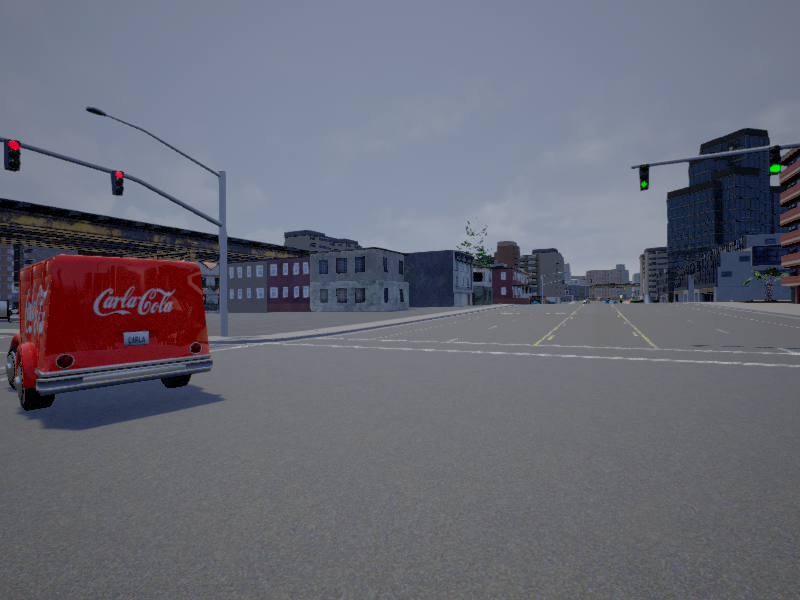Benign: (7, 256, 212, 411)
